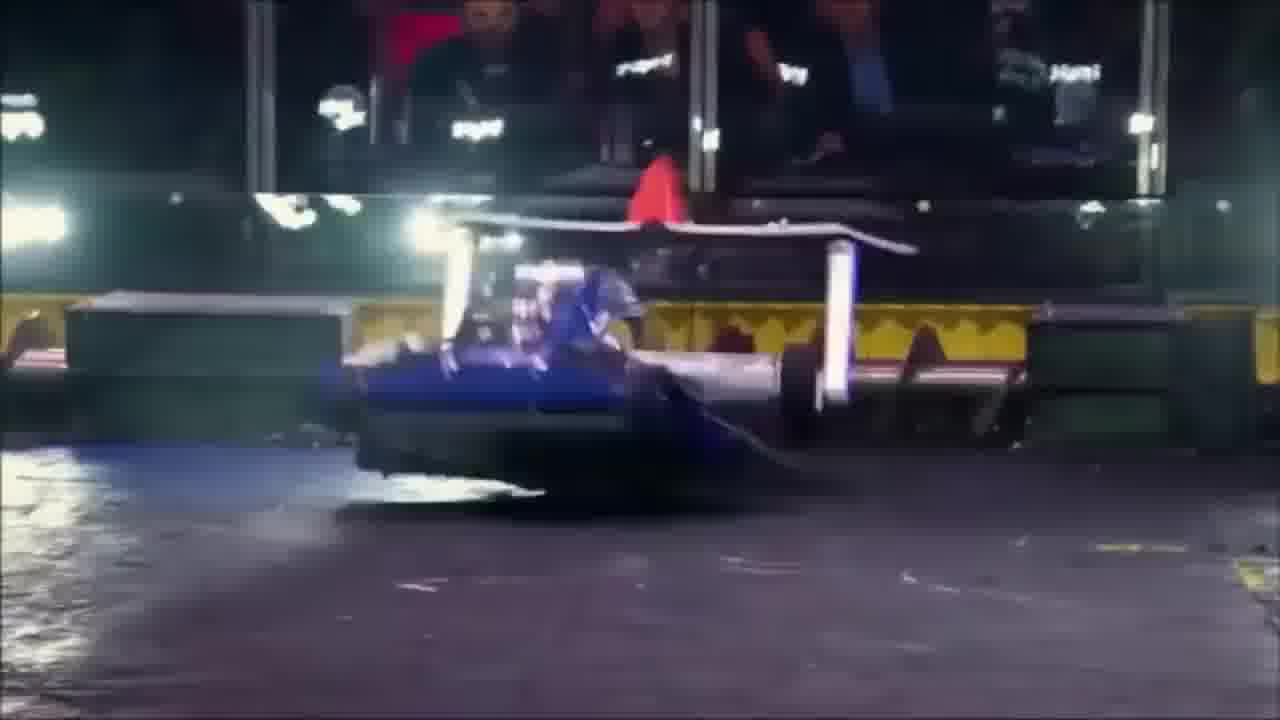combatbot: (310, 259, 789, 497)
